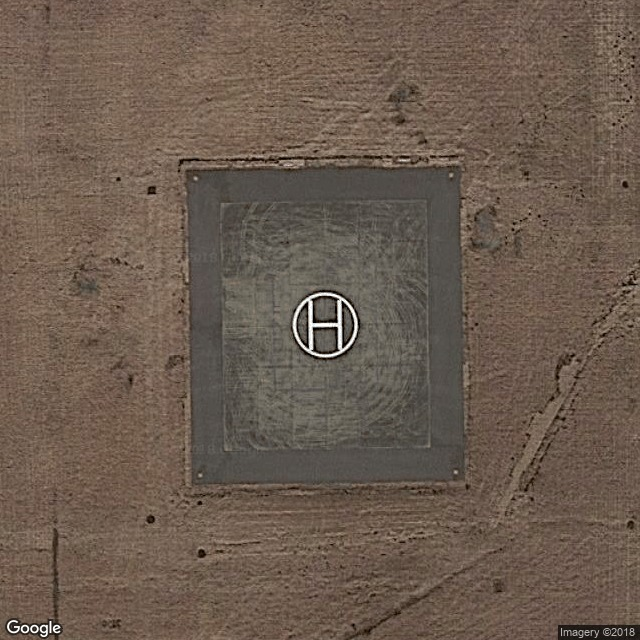heliport: (301, 292, 348, 357)
